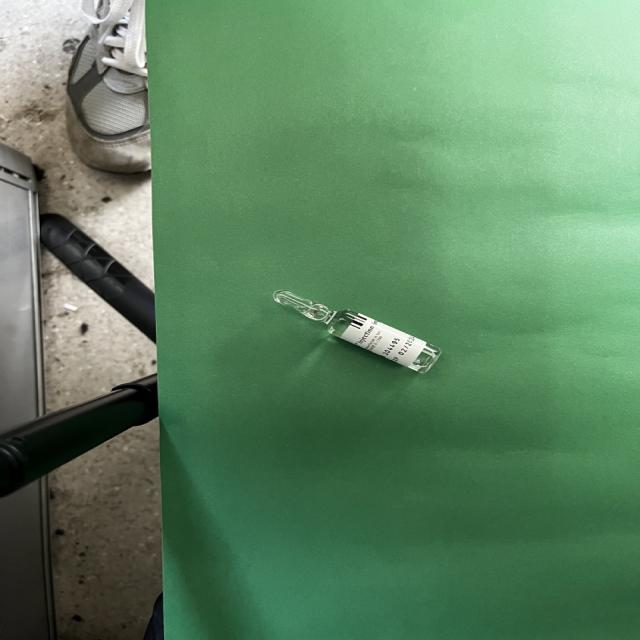Ampoules: (272, 290, 442, 374)
